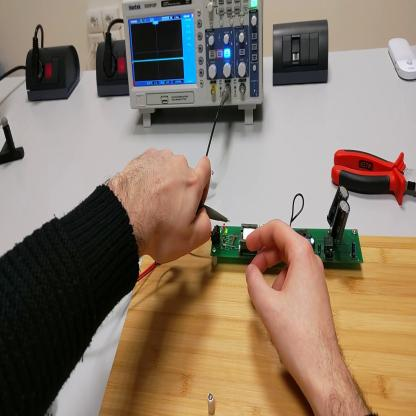hand: (247, 219, 341, 388), (116, 145, 214, 268)
high voltage board: (212, 187, 365, 266)
oscilloscope: (123, 2, 264, 129)
oscilloscope probe tip: (199, 206, 230, 225)
pliers: (330, 146, 415, 208)
socket: (27, 45, 81, 104), (95, 38, 131, 100)
working area: (100, 226, 416, 416)
